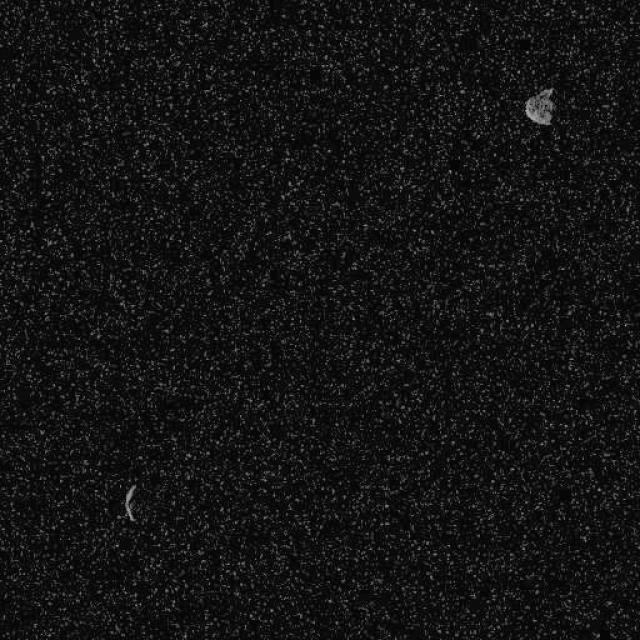D2: (524, 86, 555, 125), (122, 482, 138, 522)
